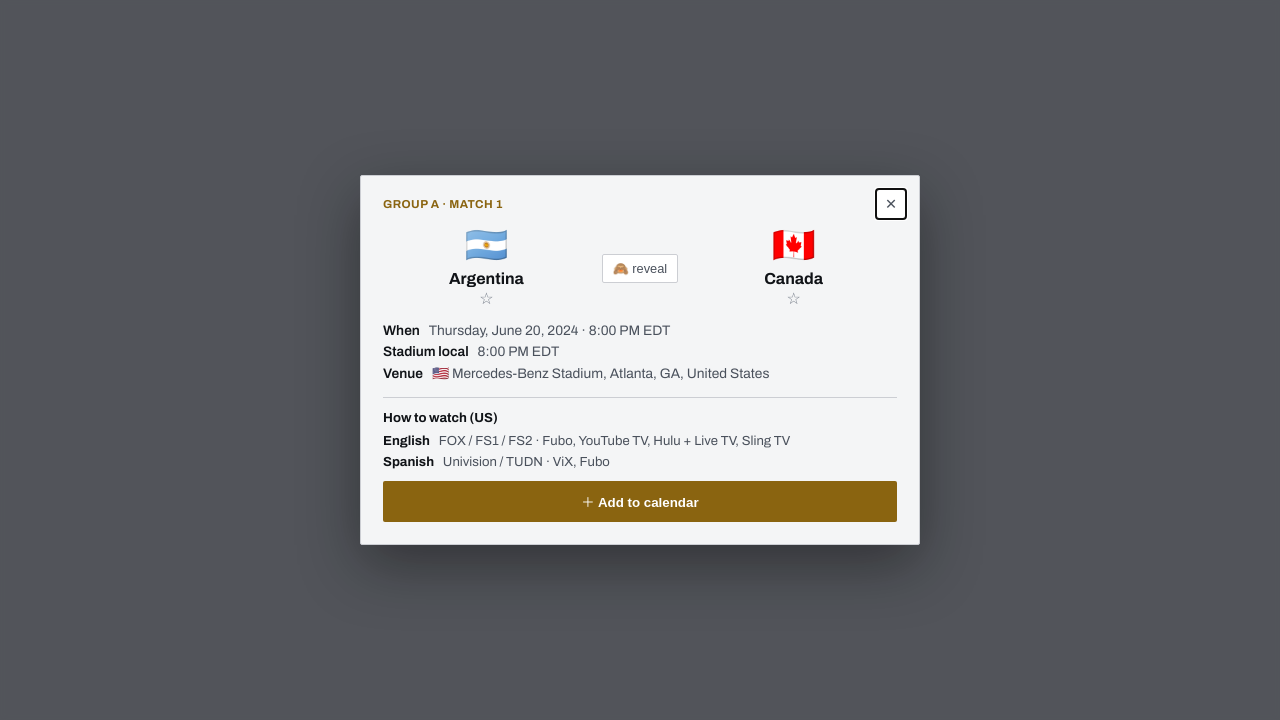
Test: MatchDetail spoiler reveal › hides the score behind a reveal button and reveals on click
Check: the text "Match events" is not shown
Step 1. Click the button "🙈 reveal" → (640, 268), box [602, 254, 678, 283]
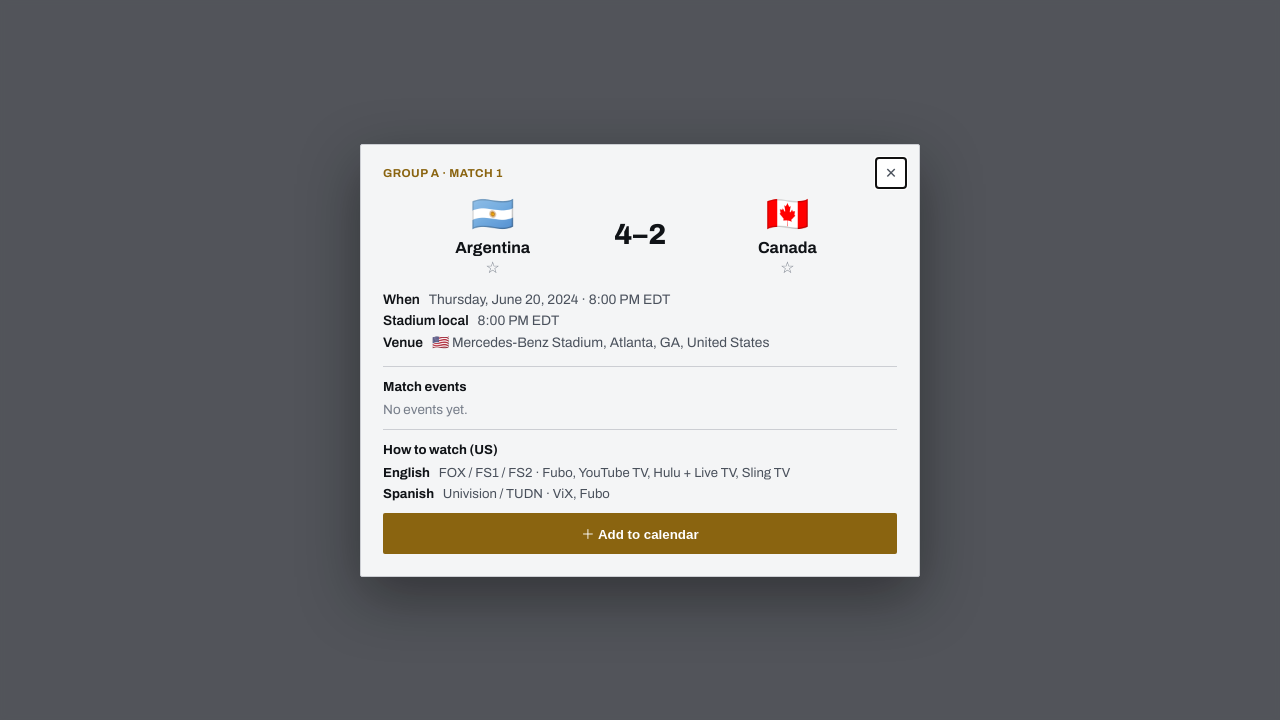
Check: the text "4–2" is shown, box [614, 218, 666, 250]
Check: the heading "Match events" is shown, box [383, 378, 467, 394]
